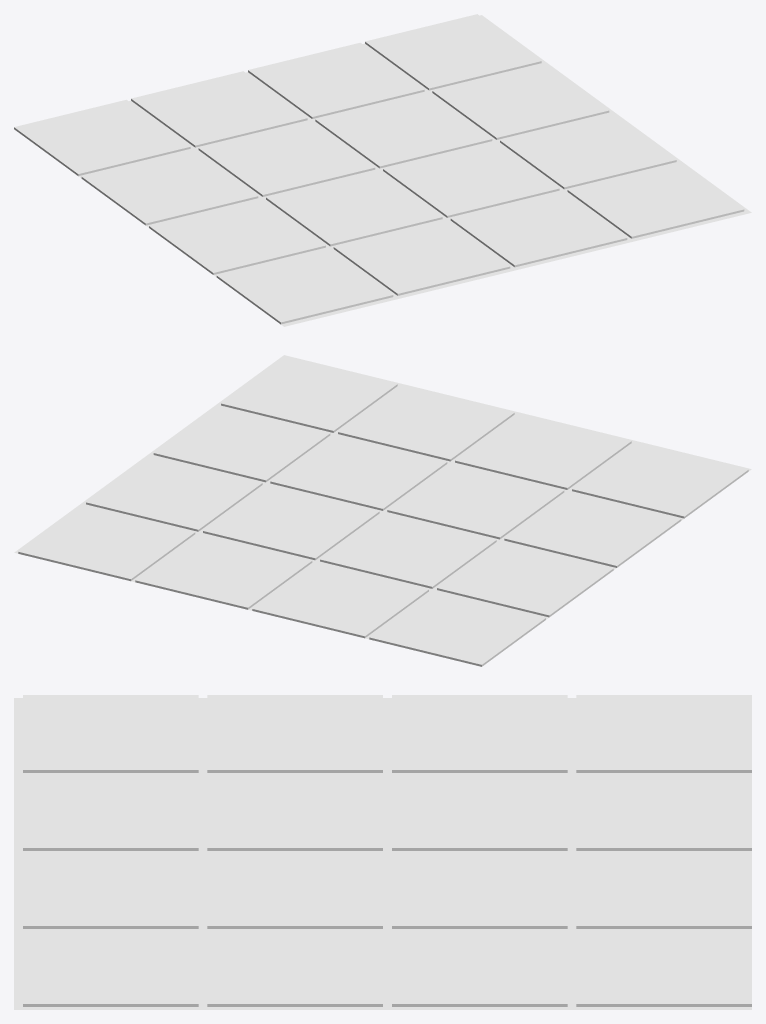
Rendered from Piso_004.fbx.
The picture shows the model from 3 angles, top to bottom: view 1: azimuth 30°, elevation 25°; view 2: azimuth 150°, elevation 25°; view 3: azimuth 270°, elevation 25°; orthographic projection. The views are drawn at different scales.
Parts seen in each view (by area): view 1: Plane; view 2: Plane; view 3: Plane.
Part boxes in pixels (x1,y1,x2,y2): Plane: (14,14,751,326); Plane: (14,355,751,666); Plane: (14,695,751,1009).
Bounding box in the file's own units: 600 × 2.51 × 600.
